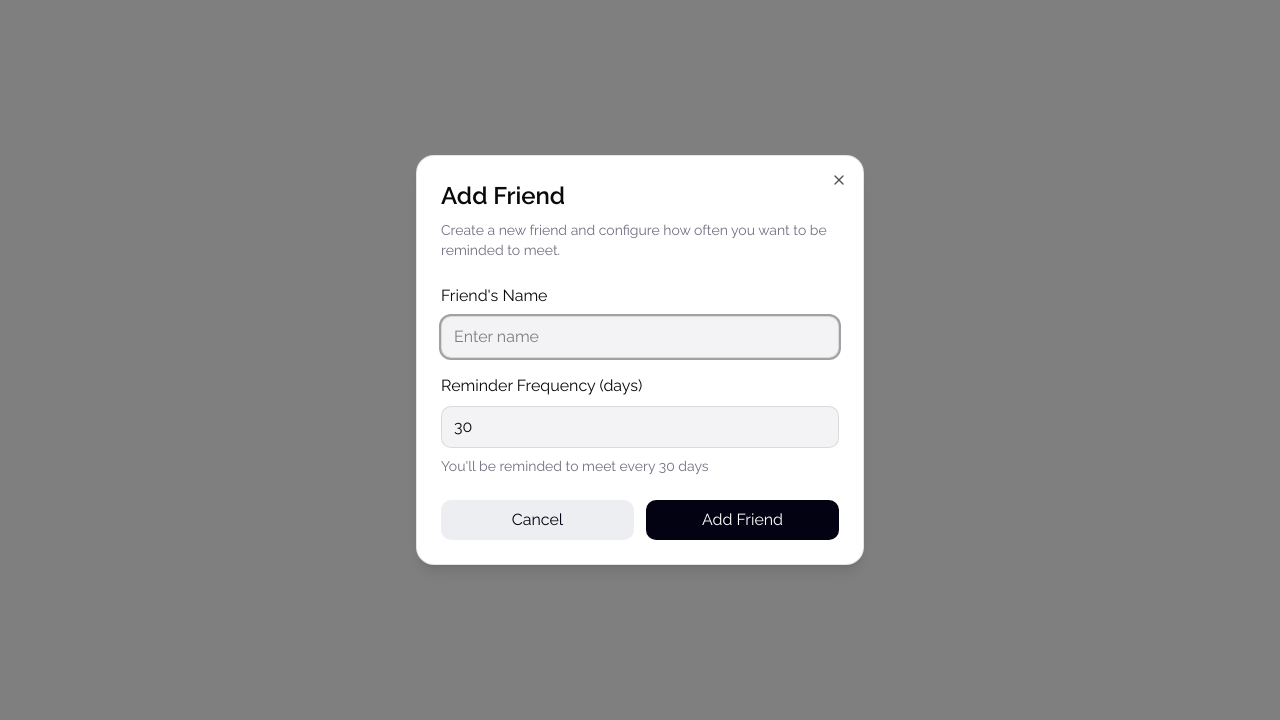
Test: AddFriendDialog › shows validation error when name is empty
This screenshot has width=1280, height=720.
Click the button "Add Friend": coordinates (742, 520) [646, 500, 839, 540]
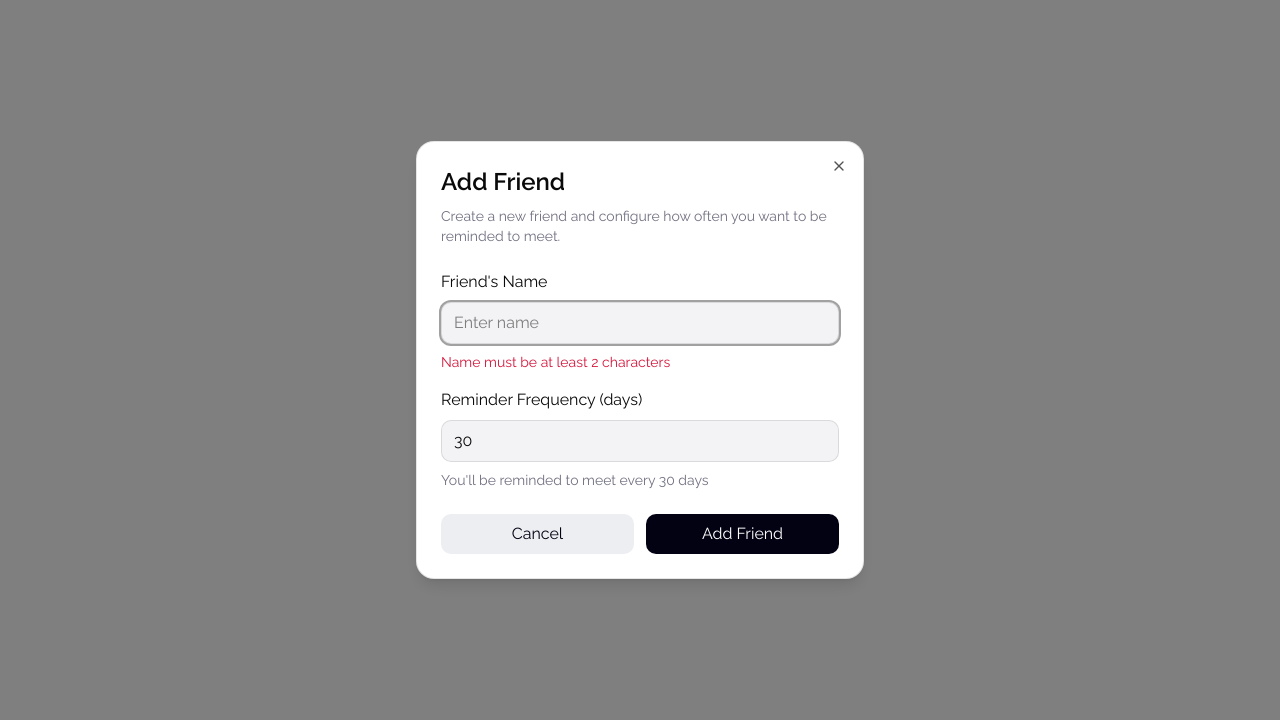
expect the text "Name must be at least 2 characters" is shown: met, box [441, 354, 670, 370]
